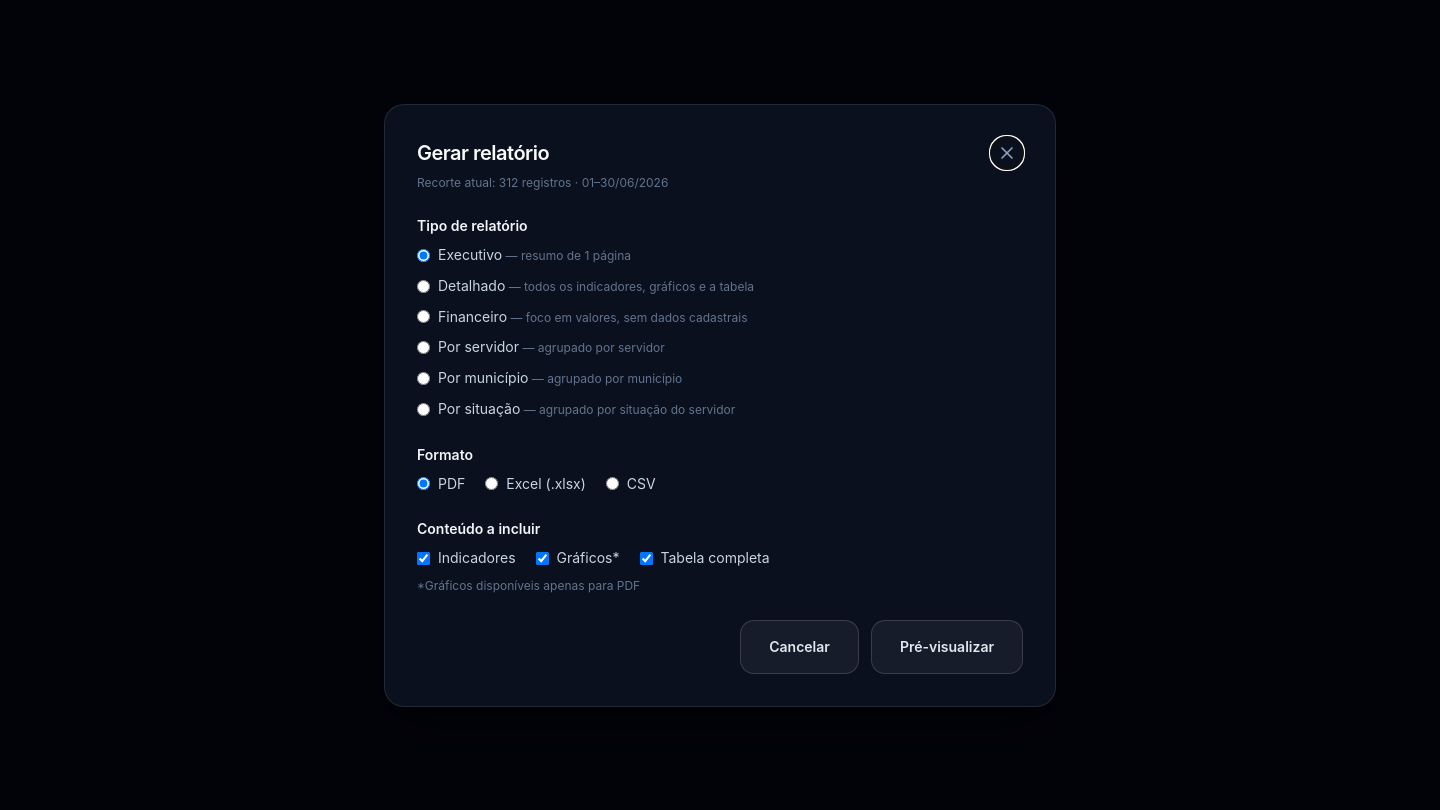
Test case: ModalRelatorio › trocar formato para Excel desmarca e desabilita 'Gráficos' automaticamente (regra real do backend)
The width and height of the screenshot is (1440, 810).
Expected: the checkbox labelled "Gráficos*" is checked, [536,552,548,565]
Expected: the checkbox labelled "Gráficos*" is enabled, [536,552,548,565]
Click the radio button labelled "Excel (.xlsx)" at (492, 484), box [485,477,498,490]
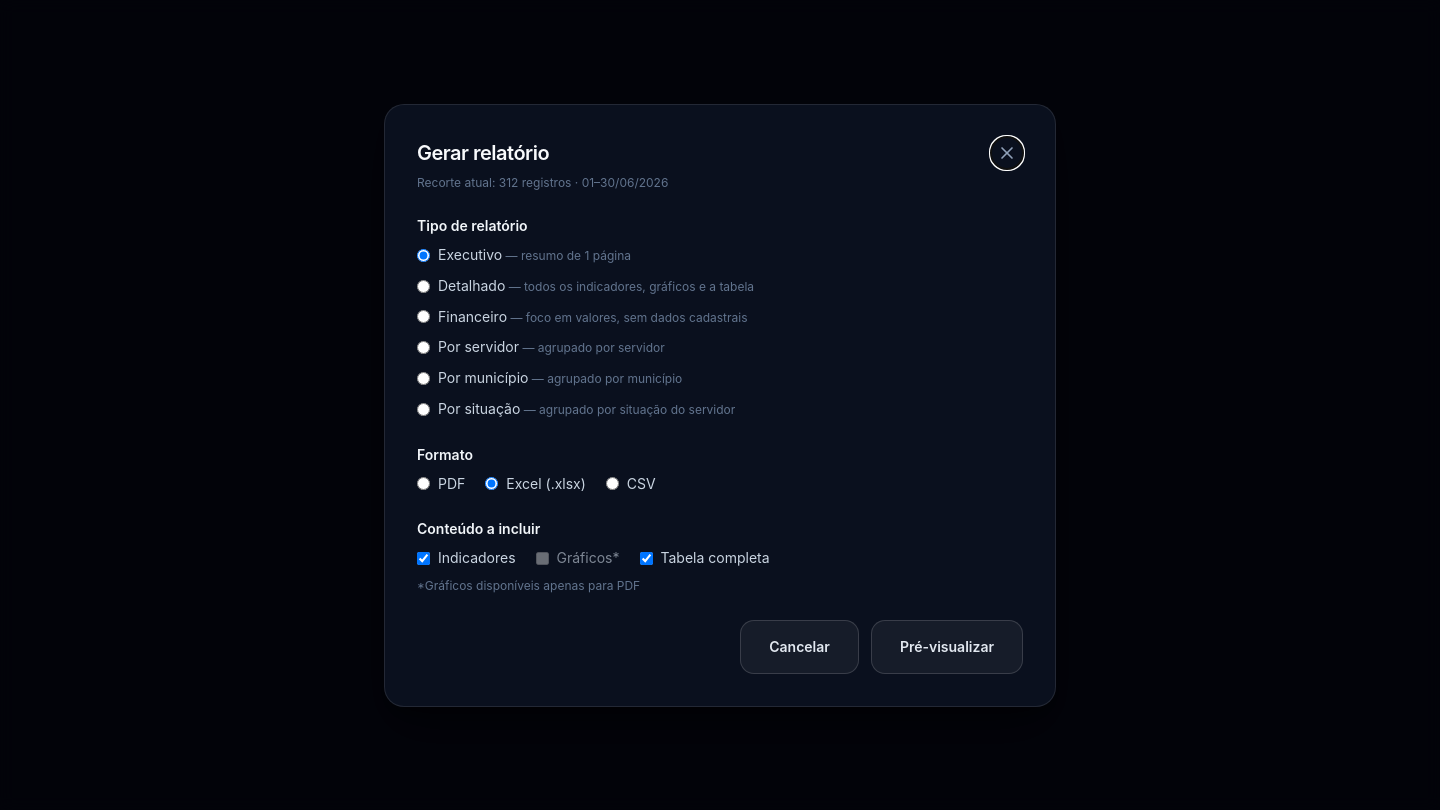
Expected: the checkbox labelled "Gráficos*" is not checked, [536,552,548,565]
Expected: the checkbox labelled "Gráficos*" is disabled, [536,552,548,565]
